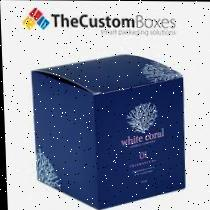cube: (32, 55, 186, 210)
